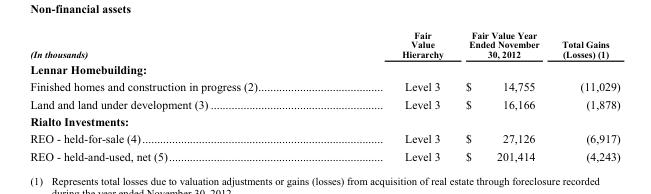table: (29, 29, 619, 162)
table column: (29, 29, 329, 162), (329, 29, 453, 162), (453, 29, 549, 162), (549, 29, 619, 162)
table column header: (29, 29, 619, 60)
table projected row header: (29, 60, 619, 77), (29, 112, 619, 129)
table row: (29, 29, 619, 60), (29, 77, 619, 95), (29, 129, 619, 147), (29, 60, 619, 77), (29, 95, 619, 112), (29, 112, 619, 129), (29, 147, 619, 162)
